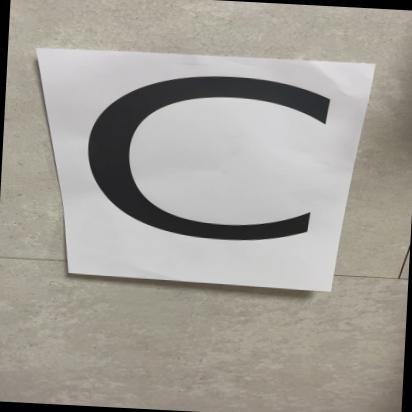seat: (33, 50, 346, 302)
